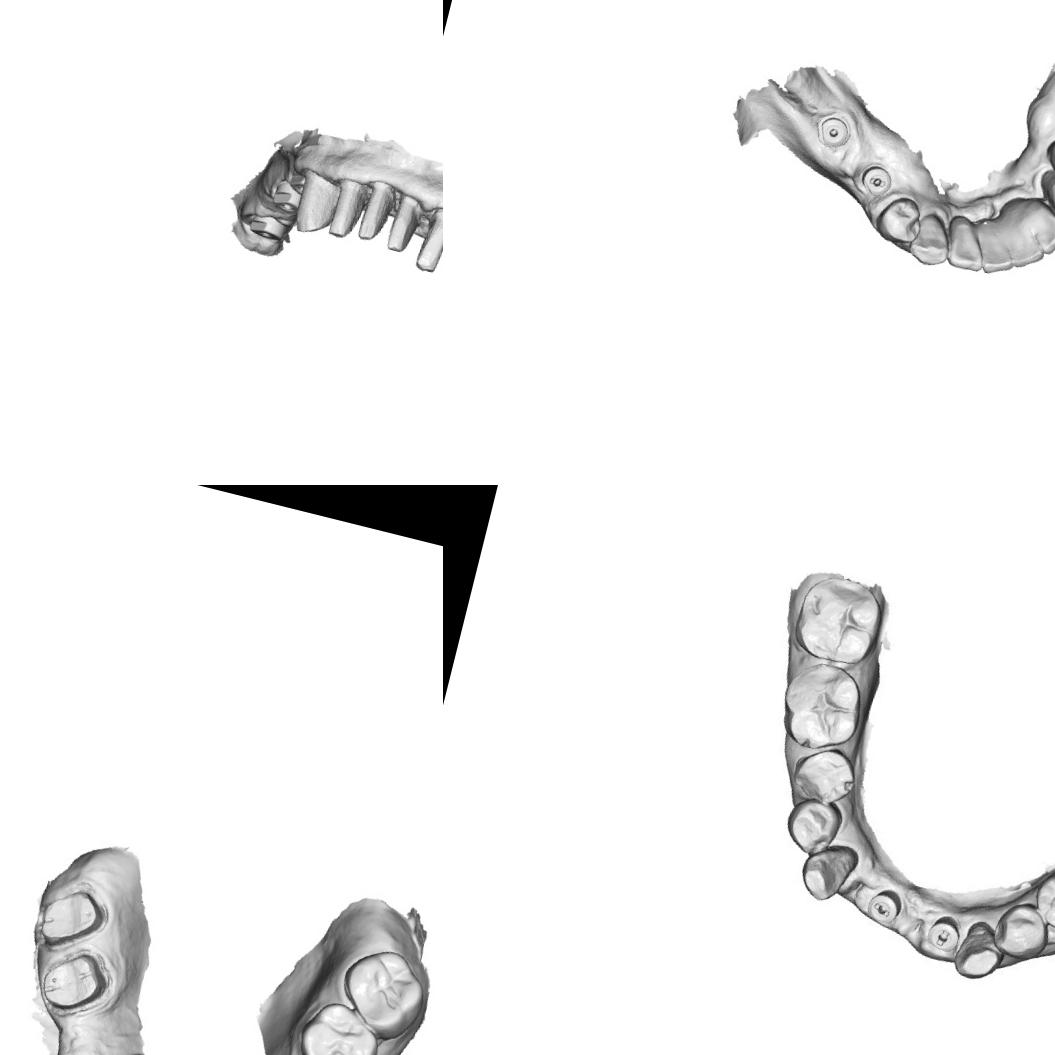canine: (792, 836, 861, 909), (948, 914, 1011, 986), (287, 164, 341, 238), (904, 207, 958, 269), (1040, 174, 1055, 231)
crown: (30, 880, 111, 958), (34, 944, 112, 1020), (326, 173, 368, 242), (354, 177, 395, 243), (386, 188, 420, 261), (411, 201, 443, 274)
implant: (240, 206, 297, 246), (811, 111, 854, 152), (267, 170, 303, 218)
implant_minus: (860, 883, 904, 934), (920, 910, 963, 960), (856, 160, 895, 200)
incisor: (994, 223, 1050, 274), (940, 220, 992, 274), (968, 229, 1020, 278), (1024, 207, 1055, 259)
molar: (330, 938, 436, 1048), (786, 568, 890, 672), (770, 654, 870, 759), (287, 992, 387, 1055)
premolar: (786, 740, 860, 810), (985, 894, 1055, 965), (778, 792, 848, 862), (869, 189, 928, 248), (1027, 868, 1055, 938), (1037, 132, 1055, 195)
